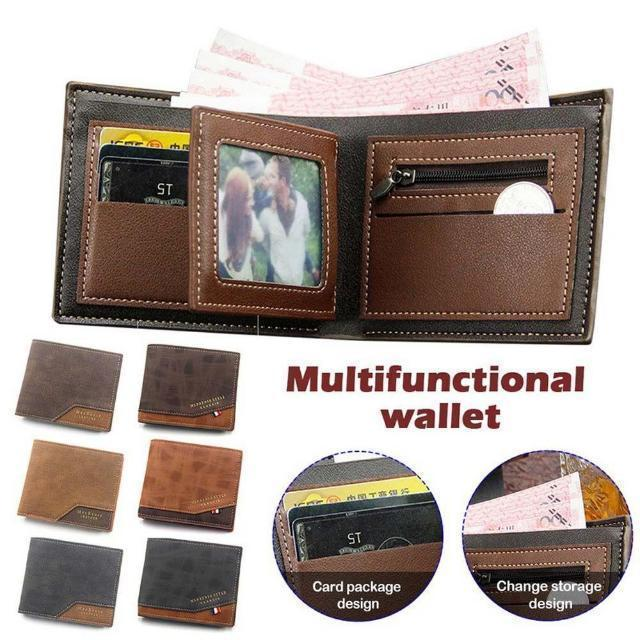wallet: (50, 65, 618, 339), (138, 535, 246, 635), (14, 335, 122, 433), (15, 536, 123, 634), (136, 342, 254, 430), (21, 434, 124, 534), (136, 438, 244, 532)
